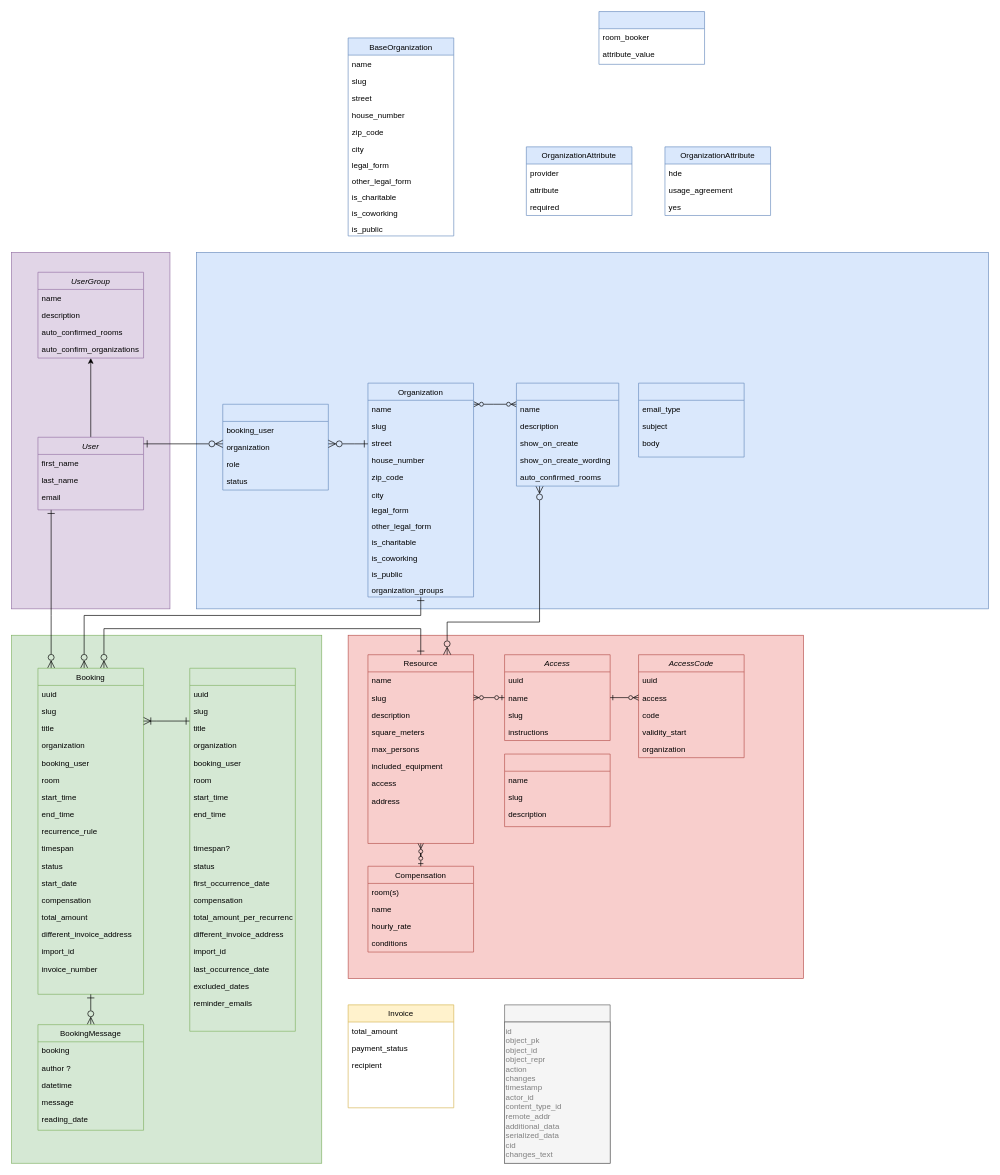
Image size: 1000x1175. Some labels were removed from this diagram. The shapes that lost their labels are listed below. From the top down, each one's box as (x1, y1, x2, y2) in pixels, then its label:
(598, 11, 705, 64): OrganizationValue
(516, 382, 619, 486): OrganizationGroup
(638, 382, 744, 457): EmailTemplate
(222, 404, 328, 490): BookingPermission
(504, 753, 610, 827): BookableAsset
(189, 668, 295, 1031): RecurrenceRule
(504, 1004, 610, 1163): auditlog_logentry
